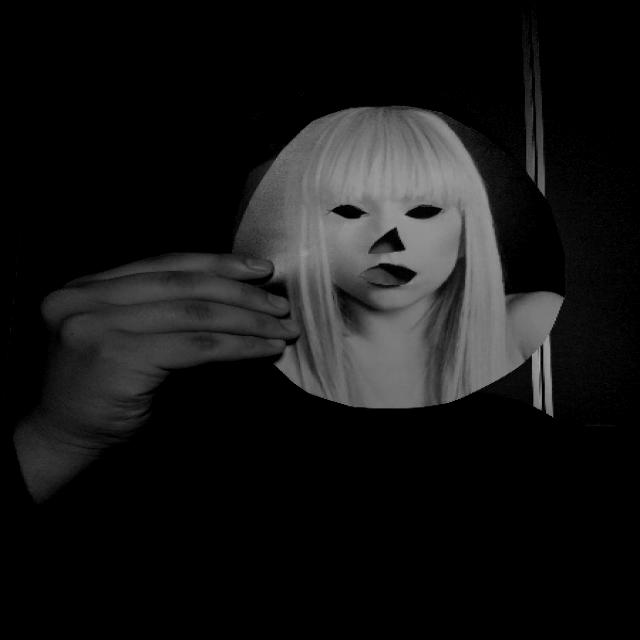real: (228, 107, 578, 410)
